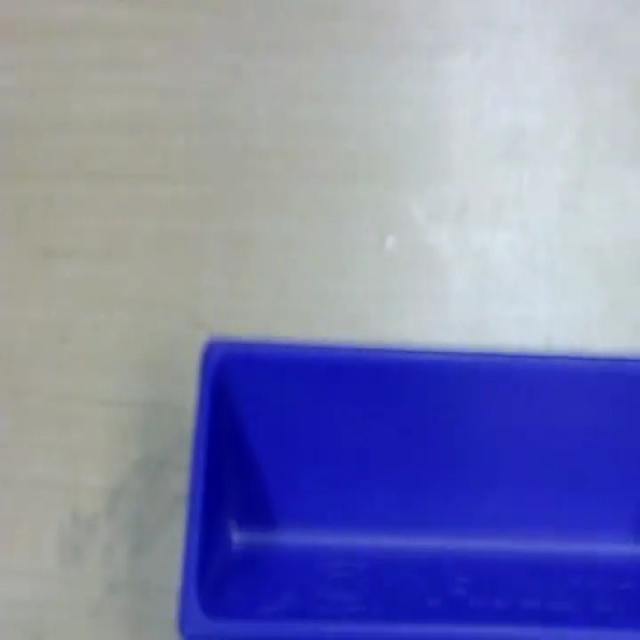blue_block: (177, 332, 639, 637)
